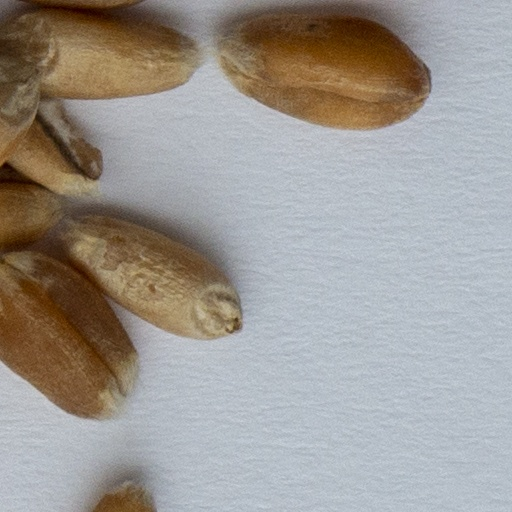Wheat-grain-damaged-poly: (0, 180, 64, 249)
